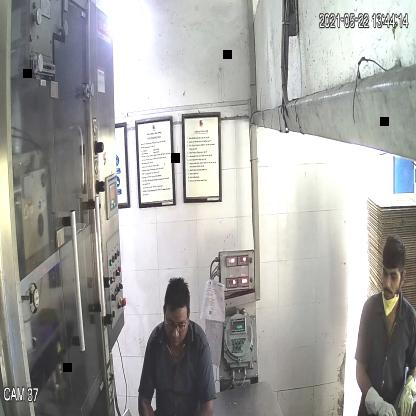goggles: (162, 312, 192, 336)
no_goggles: (380, 266, 405, 287)
